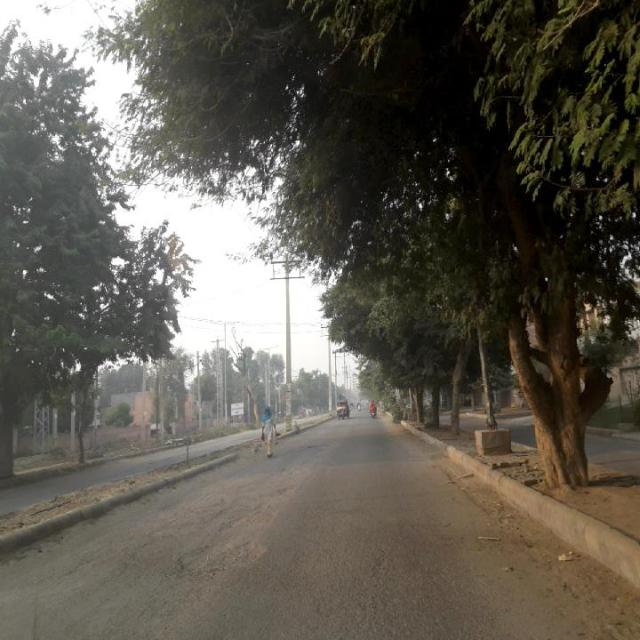pothole: (165, 497, 282, 594)
